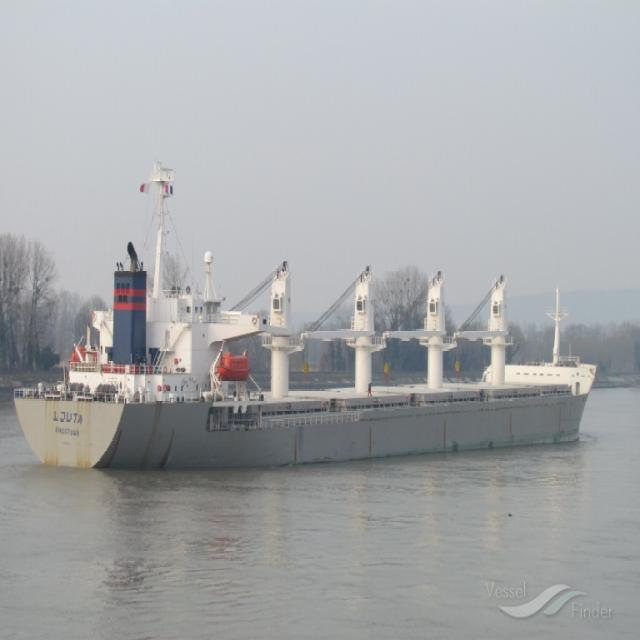OCR: (46, 404, 90, 446)
